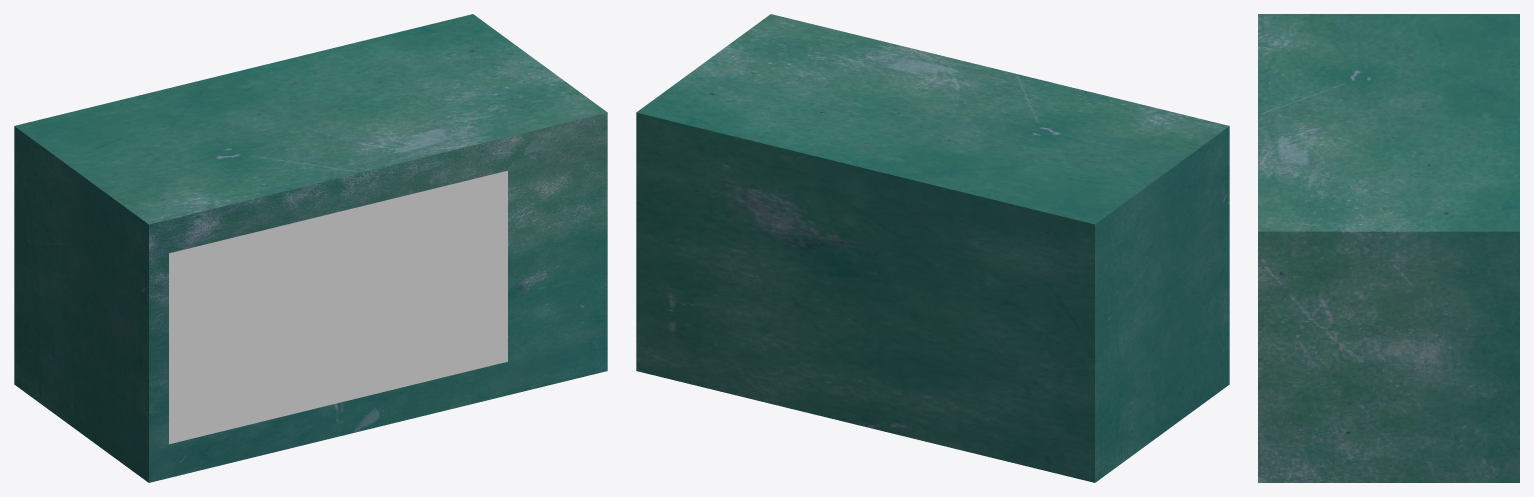
Rendered from Horno.fbx.
3 views of the same model, side by side, from view 1: azimuth 30°, elevation 25°; view 2: azimuth 150°, elevation 25°; view 3: azimuth 270°, elevation 25° (orthographic). The views are drawn at different scales.
Visible parts, largest first — view 1: Cube.007, Cube.008; view 2: Cube.007; view 3: Cube.007.
Part boxes in pixels (x1=…): Cube.007: x1=14, y1=14, x2=607, y2=482; Cube.008: x1=169, y1=170, x2=507, y2=444; Cube.007: x1=636, y1=14, x2=1229, y2=482; Cube.007: x1=1258, y1=14, x2=1519, y2=482.
Size of the model in its own units: 200 by 108 by 102.
